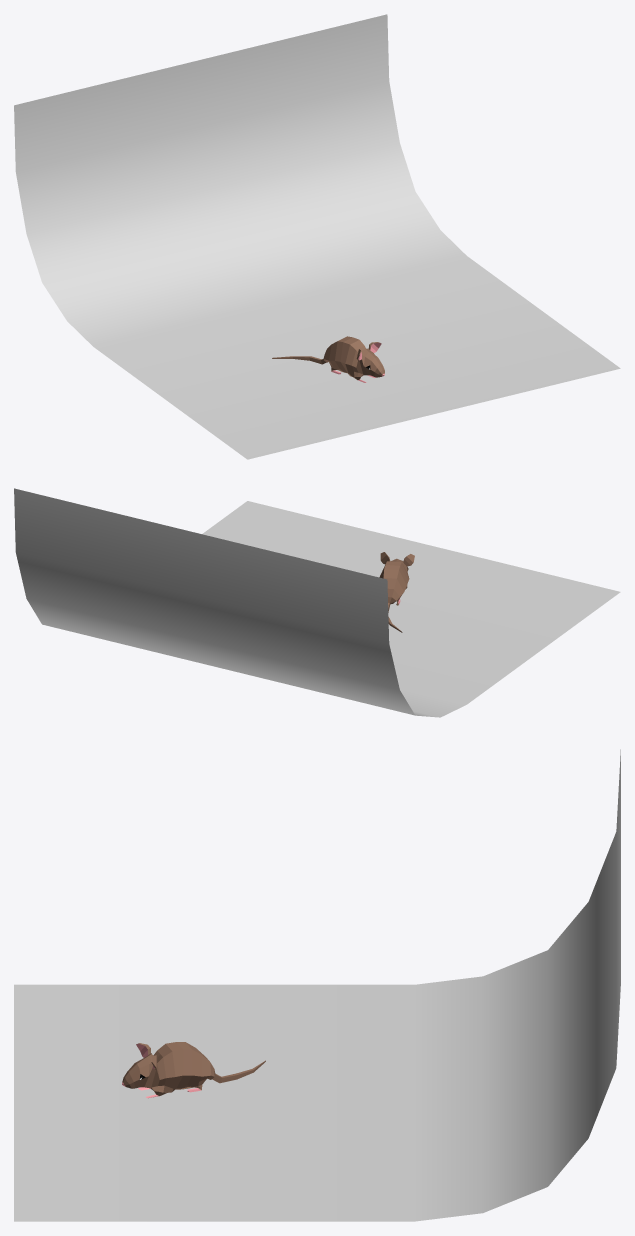
File: mouse_lowpoly_fix.fbx
3 views of the same model, one above another, from view 1: azimuth 30°, elevation 25°; view 2: azimuth 150°, elevation 25°; view 3: azimuth 270°, elevation 25° (orthographic). The views are drawn at different scales.
Visible parts, largest first — view 1: Plane, Cube; view 2: Plane, Cube; view 3: Plane, Cube.
Boxes of the visible parts, left/top/right/bottom form: Plane: left=14, top=14, right=620, bottom=459; Cube: left=272, top=336, right=384, bottom=382; Plane: left=14, top=488, right=620, bottom=717; Cube: left=379, top=552, right=414, bottom=632; Plane: left=14, top=749, right=620, bottom=1221; Cube: left=122, top=1042, right=265, bottom=1098.
Size of the model in its own units: 2797 by 1318 by 3029.
